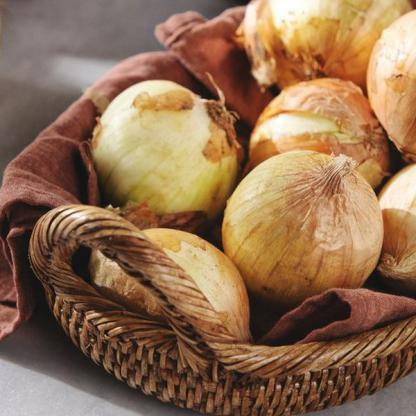onion: (228, 143, 386, 296), (108, 82, 232, 226), (252, 0, 416, 106), (260, 73, 381, 193)
